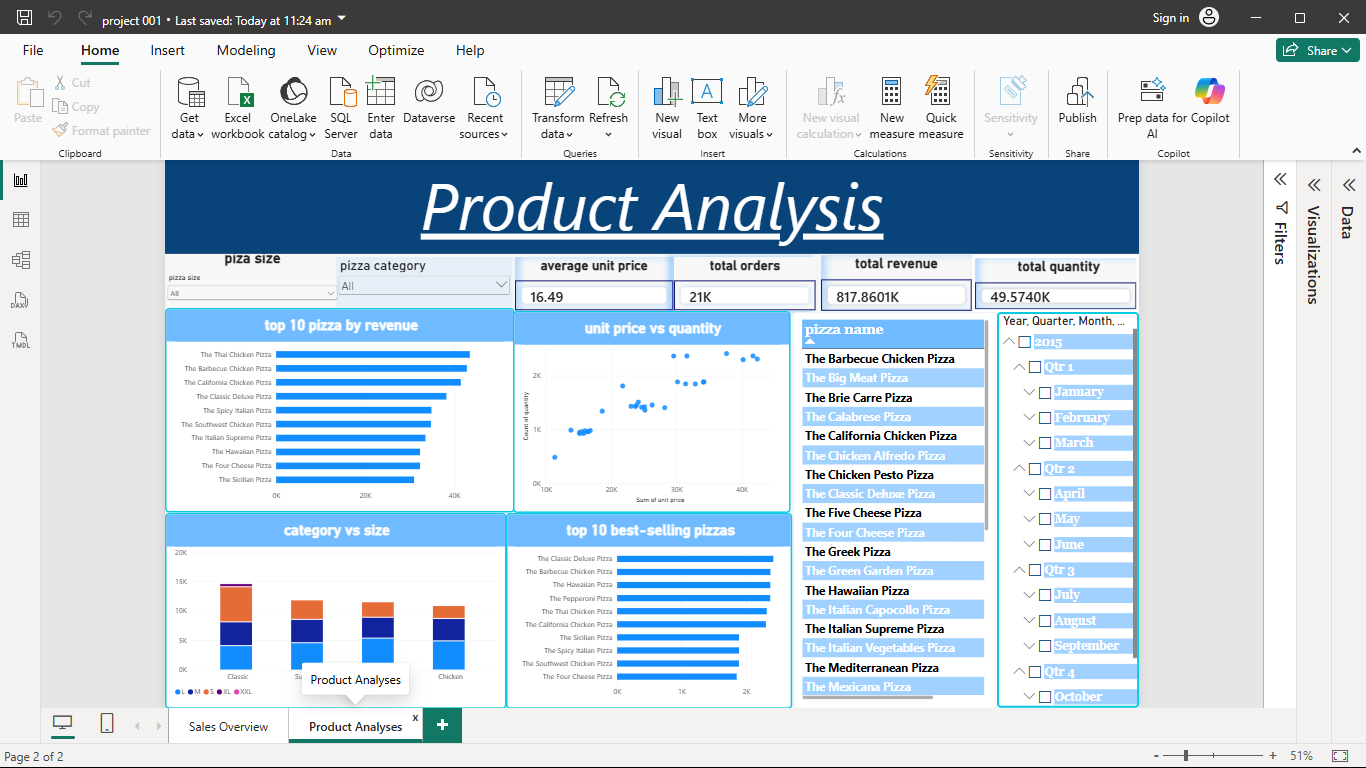

What the dashboard file says about the page in this screenshot:
{"tool":"powerbi","page":{"name":"Product Analyses","canvas":[1920,1080],"ordinal":1},"visuals":[{"type":"cardVisual","title":"total quantity","fields":{"Data":["pizza_sales.total pizza sold"]},"box":[1589.9,186.5,330.1,113.4],"z":0},{"type":"cardVisual","title":"total revenue","fields":{"Data":["pizza_sales.total revenue"]},"box":[1292.6,186.5,297.3,110.9],"z":1},{"type":"cardVisual","title":"total orders","fields":{"Data":["pizza_sales.total_order"]},"box":[1002.8,191.5,279.7,105.8],"z":2},{"type":"cardVisual","title":"average unit price","fields":{"Data":["pizza_sales.average uint price"]},"box":[690.4,191.5,312.4,105.8],"z":3},{"type":"clusteredBarChart","title":"top 10 best-selling pizzas","fields":{"Category":["pizza_sales.pizza name"],"Y":["CountNonNull(pizza_sales.quantity)"]},"box":[672.8,695.4,564.4,385.5],"z":4},{"type":"clusteredBarChart","title":"top 10 pizza by revenue","fields":{"Category":["pizza_sales.pizza name"],"Y":["Sum(pizza_sales.total price)"]},"box":[0,291.6,689.4,402.8],"z":5},{"type":"columnChart","title":"category vs size","fields":{"Category":["pizza_sales.pizza category"],"Series":["pizza_sales.pizza size"],"Y":["CountNonNull(pizza_sales.quantity)"]},"box":[0,695.4,672.8,385.5],"z":6},{"type":"scatterChart","title":" unit price vs quantity","fields":{"Category":["pizza_sales.pizza name"],"X":["Sum(pizza_sales.unit price)"],"Y":["CountNonNull(pizza_sales.quantity)"]},"box":[685.4,297.3,546.8,398.1],"z":7},{"type":"slicer","fields":{"Values":["pizza_sales.pizza category"]},"box":[337.6,191.5,347.7,100.8],"z":8},{"type":"tableEx","fields":{"Values":["pizza_sales.pizza name"]},"box":[1237.2,299.8,403.1,781.1],"z":9},{"type":"slicer","title":"piza size","fields":{"Values":["pizza_sales.pizza size"]},"box":[0,176.4,345.2,115.9],"z":10},{"type":"slicer","fields":{"Values":["pizza_sales.order date.Variation.Date Hierarchy.Year","pizza_sales.order date.Variation.Date Hierarchy.Quarter","pizza_sales.order date.Variation.Date Hierarchy.Month","pizza_sales.order date.Variation.Date Hierarchy.Day"]},"box":[1640,300,280,780],"z":11},{"type":"textbox","box":[0,0,1920,185.3],"z":12}]}

Visuals, with their boxes on the page's 1920x1080 design canvas (x1, y1, x2, y2). These are canvas units, not pixel positions in the 1366x768 screenshot, which may show the page scaled, cropped or inside an application window:
"total quantity" cardVisual: bbox(1590, 186, 1920, 300)
"total revenue" cardVisual: bbox(1293, 186, 1590, 297)
"total orders" cardVisual: bbox(1003, 192, 1282, 297)
"average unit price" cardVisual: bbox(690, 192, 1003, 297)
"top 10 best-selling pizzas" clusteredBarChart: bbox(673, 695, 1237, 1081)
"top 10 pizza by revenue" clusteredBarChart: bbox(0, 292, 689, 694)
"category vs size" columnChart: bbox(0, 695, 673, 1081)
" unit price vs quantity" scatterChart: bbox(685, 297, 1232, 695)
slicer - pizza_sales.pizza category: bbox(338, 192, 685, 292)
tableEx - pizza_sales.pizza name: bbox(1237, 300, 1640, 1081)
"piza size" slicer: bbox(0, 176, 345, 292)
slicer - pizza_sales.order date.Variation.Date Hierarchy.Year x pizza_sales.order date.Variation.Date Hierarchy.Quarter: bbox(1640, 300, 1920, 1080)
textbox: bbox(0, 0, 1920, 185)
